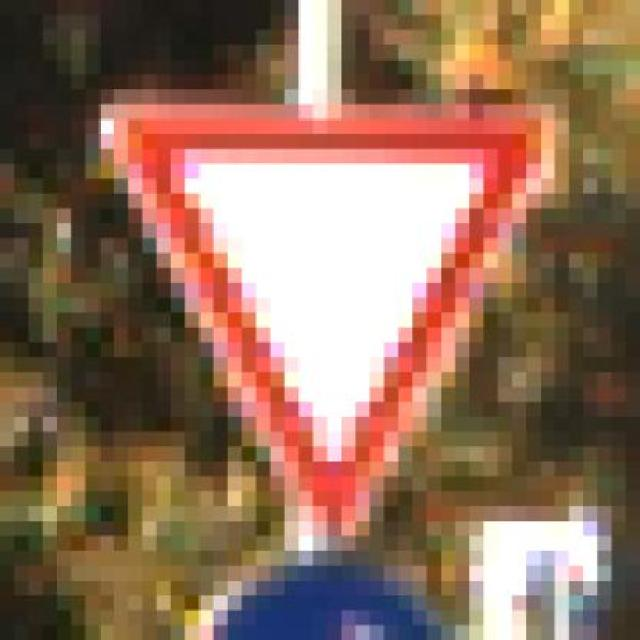Give Way: (71, 59, 569, 581)
